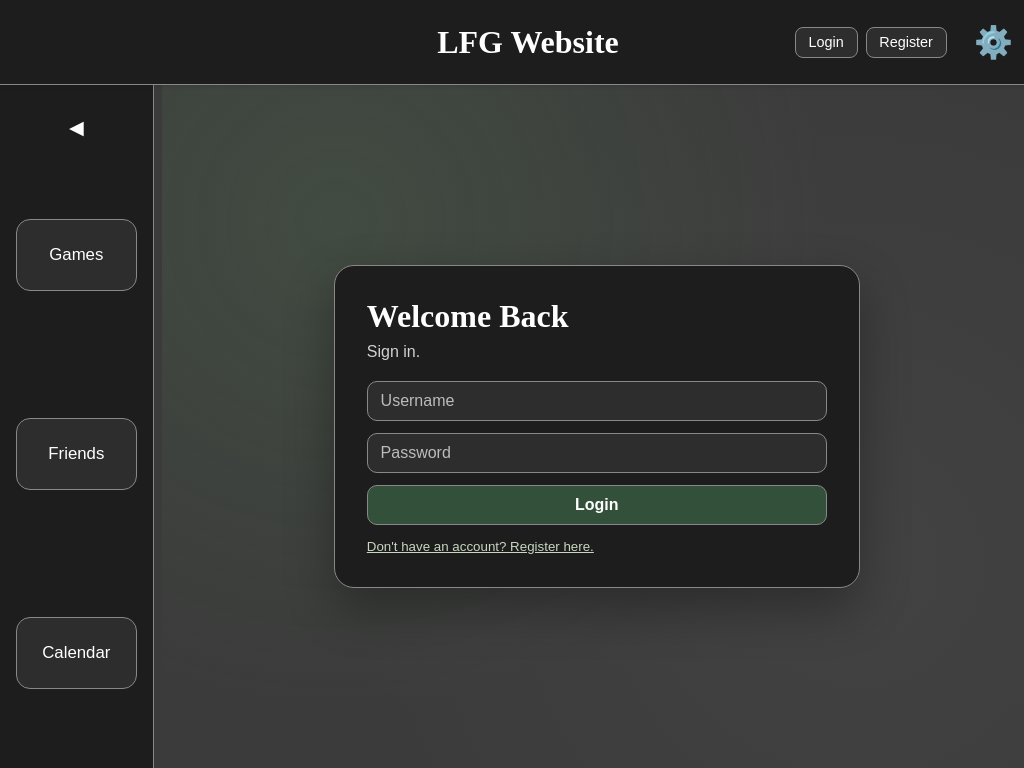
Test: login_page › shows short password error in register mode
Click the button with class "login-toggle" at (481, 547), box [367,539,594,554]
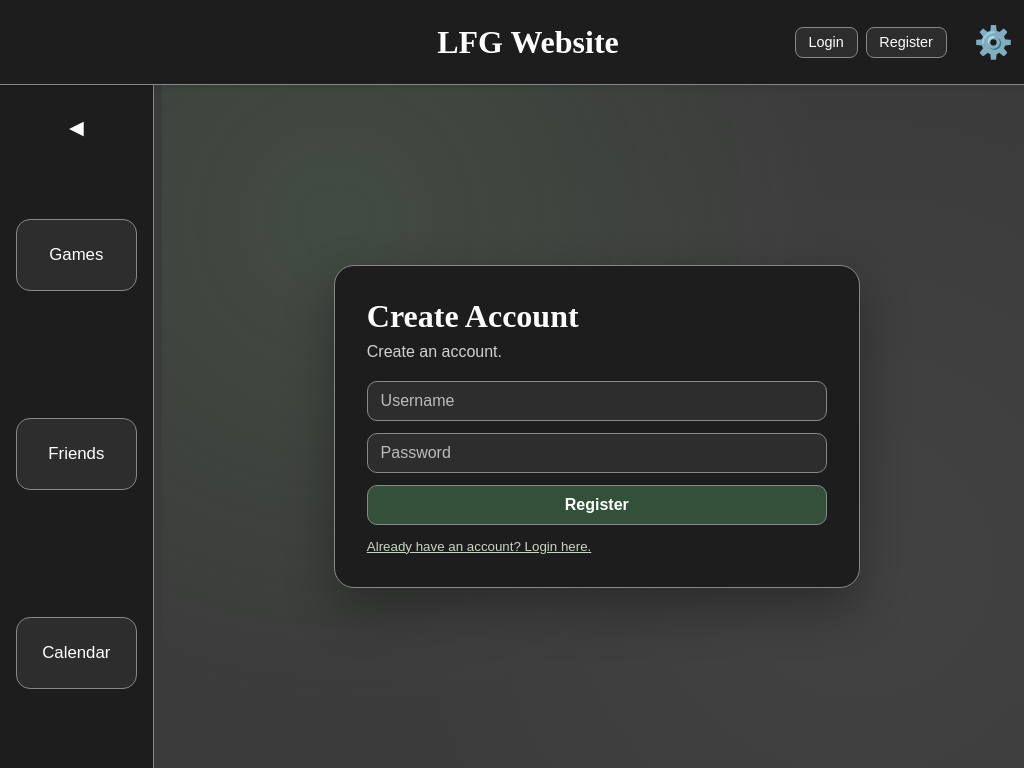
Type "user1" into the field with class "login-input" showing "Username" at (597, 402), box [367,381,827,422]
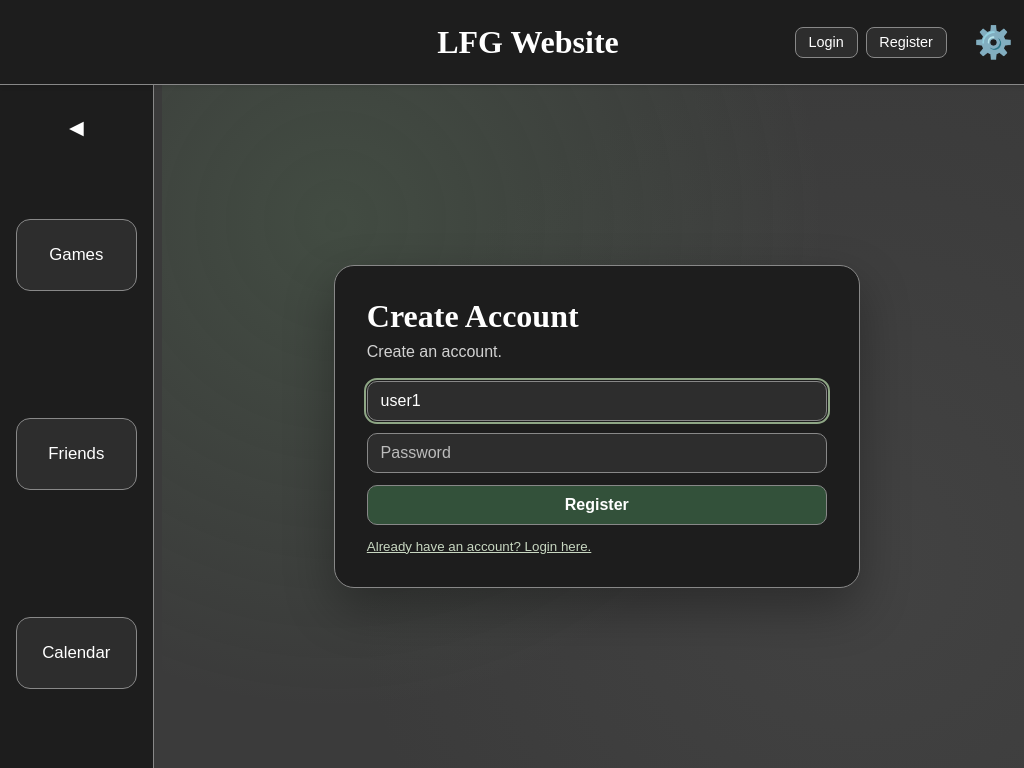
Type "123" into the password field with class "login-input" showing "Password" at (597, 454), box [367,433,827,474]
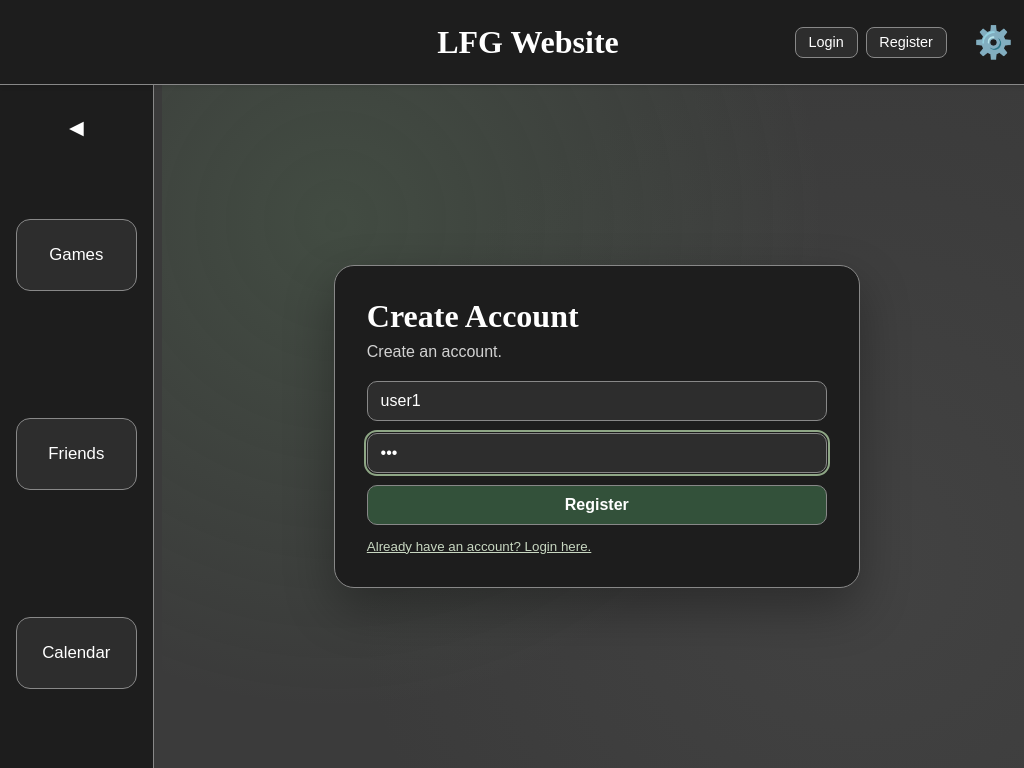
Click the button with class "login-submit" at (597, 506), box [367,485,827,526]
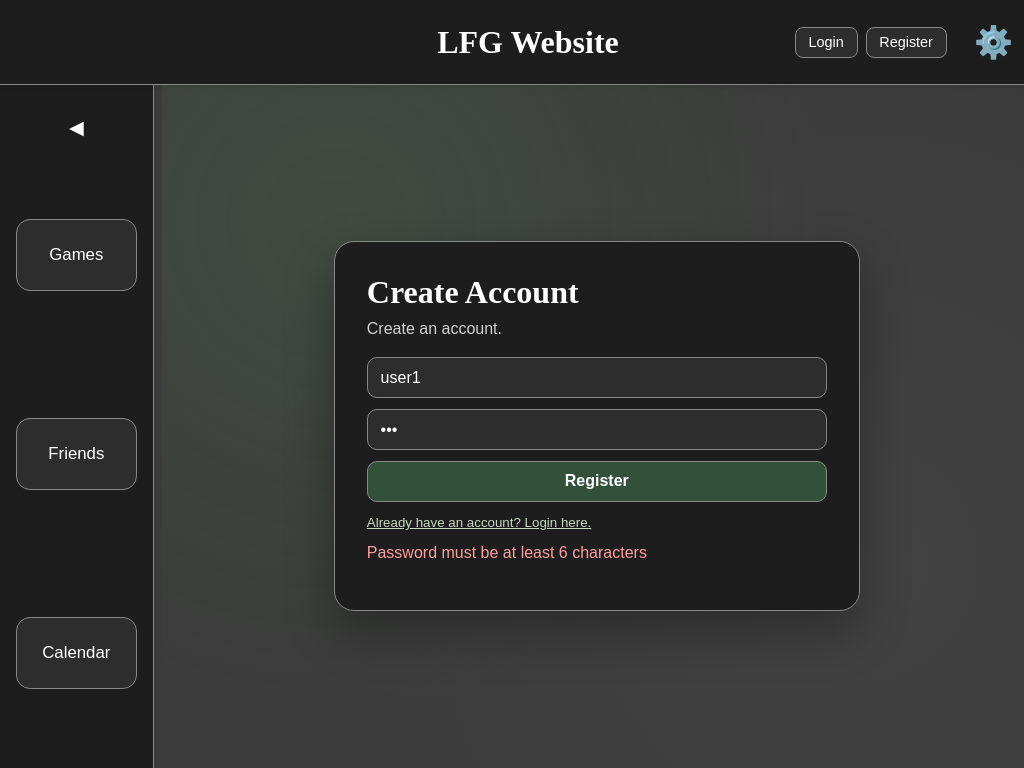
Expected: the text "Password must be at least 6 characters" is shown, [367,544,647,561]
